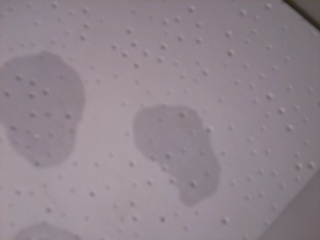Water_detected: (2, 73, 75, 158), (133, 112, 192, 181)
